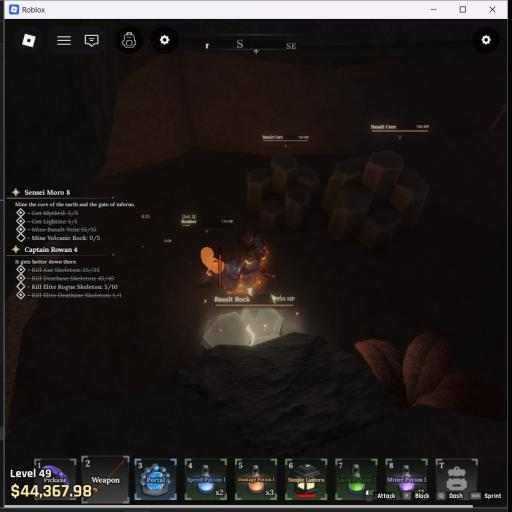player: (223, 237, 275, 294)
rock: (322, 150, 428, 249), (247, 154, 317, 230), (202, 308, 283, 349)
